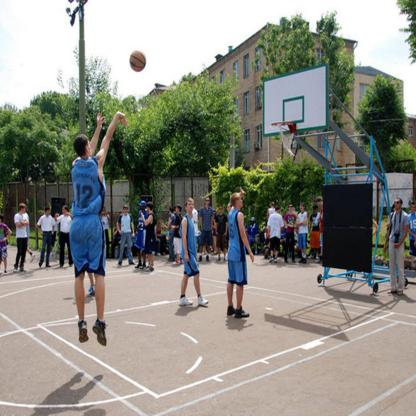face: (87, 142, 93, 156), (189, 204, 195, 212), (238, 199, 244, 207), (227, 206, 233, 214), (396, 200, 401, 209), (206, 200, 211, 205), (412, 206, 416, 212), (56, 215, 60, 221), (23, 209, 27, 214), (48, 211, 52, 216), (124, 209, 128, 214), (63, 209, 66, 215), (119, 224, 122, 230), (147, 207, 150, 212), (177, 208, 180, 213), (220, 209, 223, 214), (290, 207, 293, 212), (252, 220, 255, 225), (301, 207, 304, 211), (316, 209, 319, 213), (318, 202, 321, 206), (141, 205, 144, 209), (159, 223, 161, 227), (104, 209, 105, 212)
